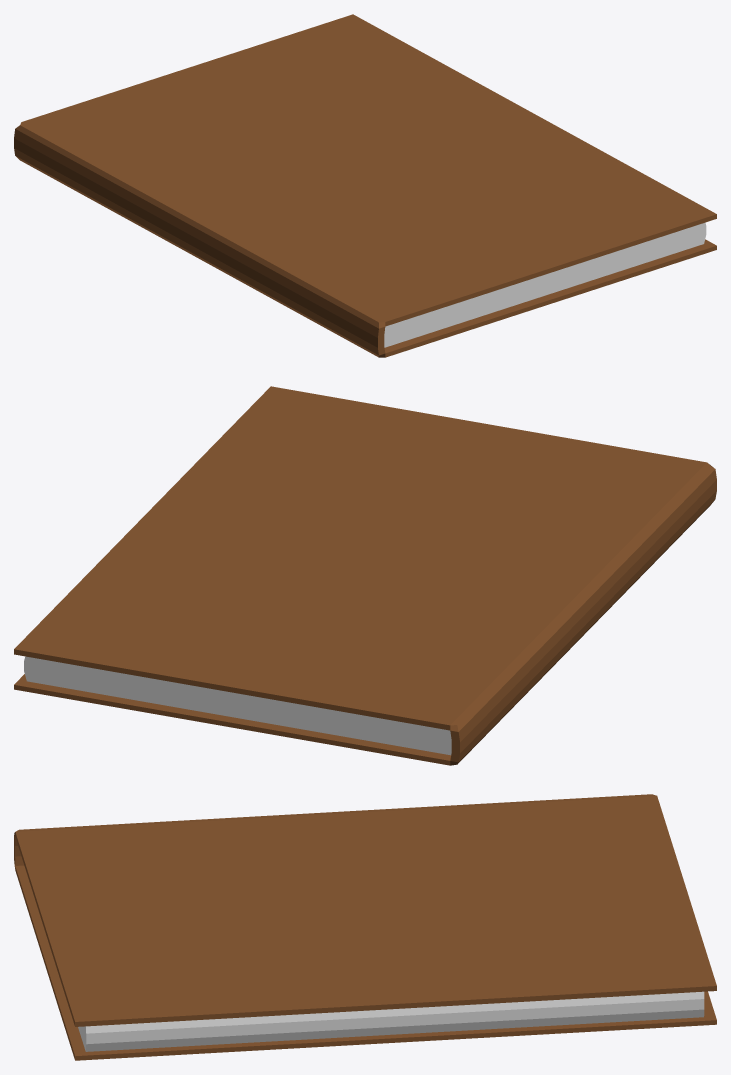
The model's file is VJ_Diari.fbx.
The picture shows the model from 3 angles, top to bottom: view 1: azimuth 30°, elevation 25°; view 2: azimuth 150°, elevation 25°; view 3: azimuth 270°, elevation 25°; orthographic projection. The views are drawn at different scales.
Visible parts, largest first — view 1: Diari; view 2: Diari; view 3: Diari.
Part boxes in pixels (x1,y1,x2,y2): Diari: [14, 14, 716, 357]; Diari: [14, 386, 716, 765]; Diari: [14, 794, 716, 1060].
Size of the model in its own units: 3.94 by 0.3086 by 5.07.
